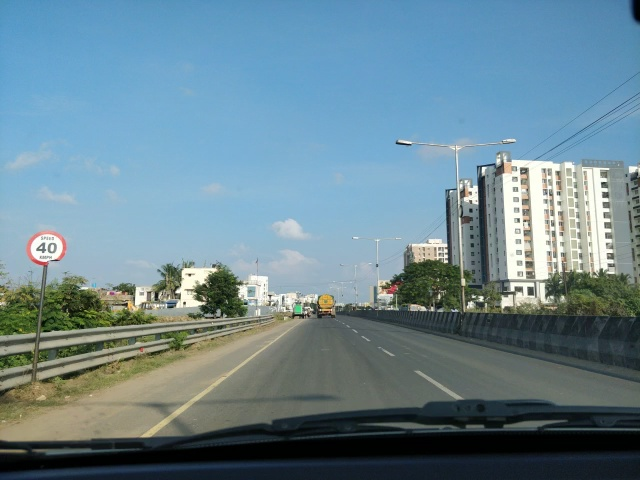truck: (315, 294, 337, 318)
